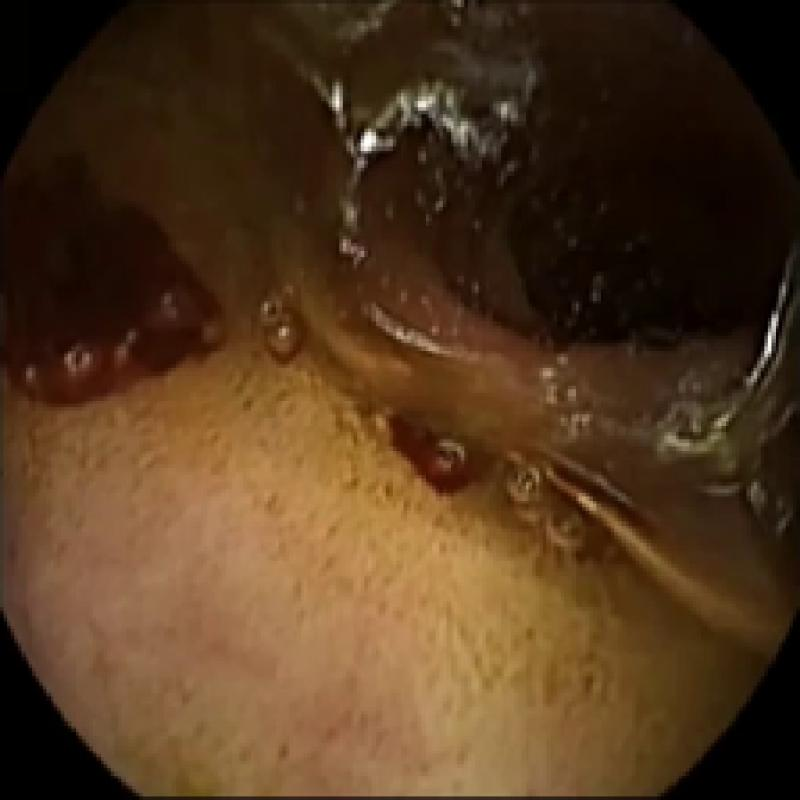bleeding: (0, 157, 214, 400), (389, 401, 481, 492), (554, 461, 657, 535)
